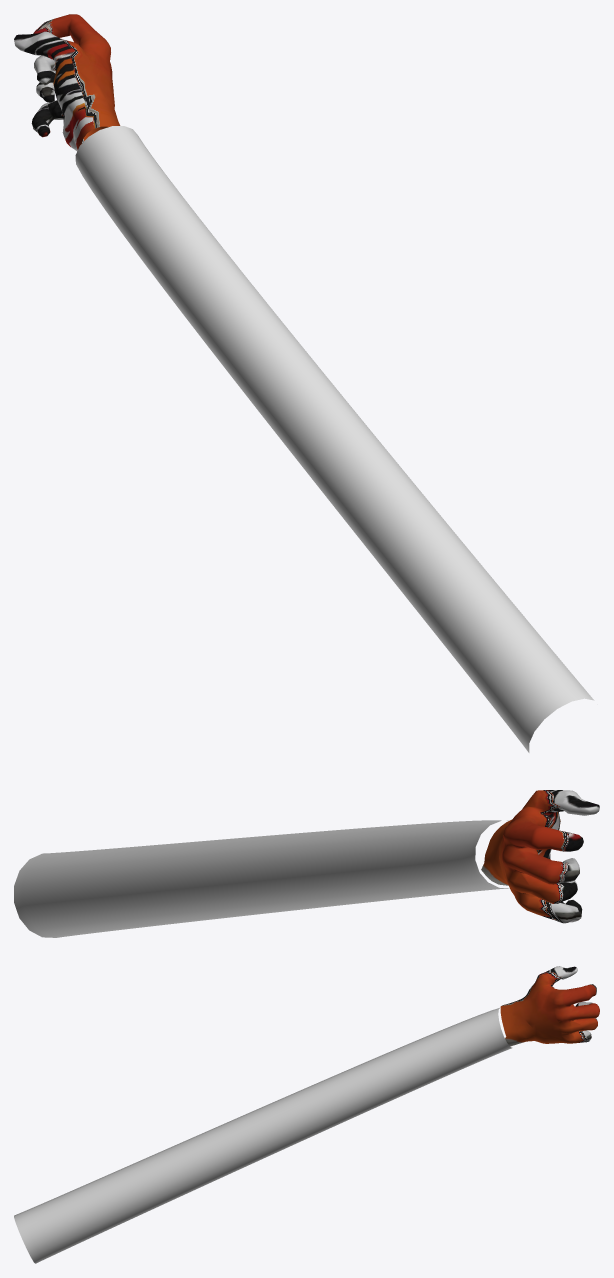
The model's file is fpa_deagle.glb.
3 renders of one model, top to bottom at view 1: azimuth 30°, elevation 25°; view 2: azimuth 210°, elevation 25°; view 3: azimuth 270°, elevation 25°, orthographic. The views are drawn at different scales.
Parts seen in each view (by area): view 1: arms, hands; view 2: arms, hands; view 3: arms, hands.
Boxes of the visible parts, <box> form: arms: <box>75,126,594,752</box>; hands: <box>14,14,120,151</box>; arms: <box>14,820,508,937</box>; hands: <box>481,790,599,923</box>; arms: <box>14,1008,512,1263</box>; hands: <box>500,966,599,1046</box>.
Bounding box in the file's own units: 0.1927 × 0.5619 × 1.11.
1 material, 1 textured.
